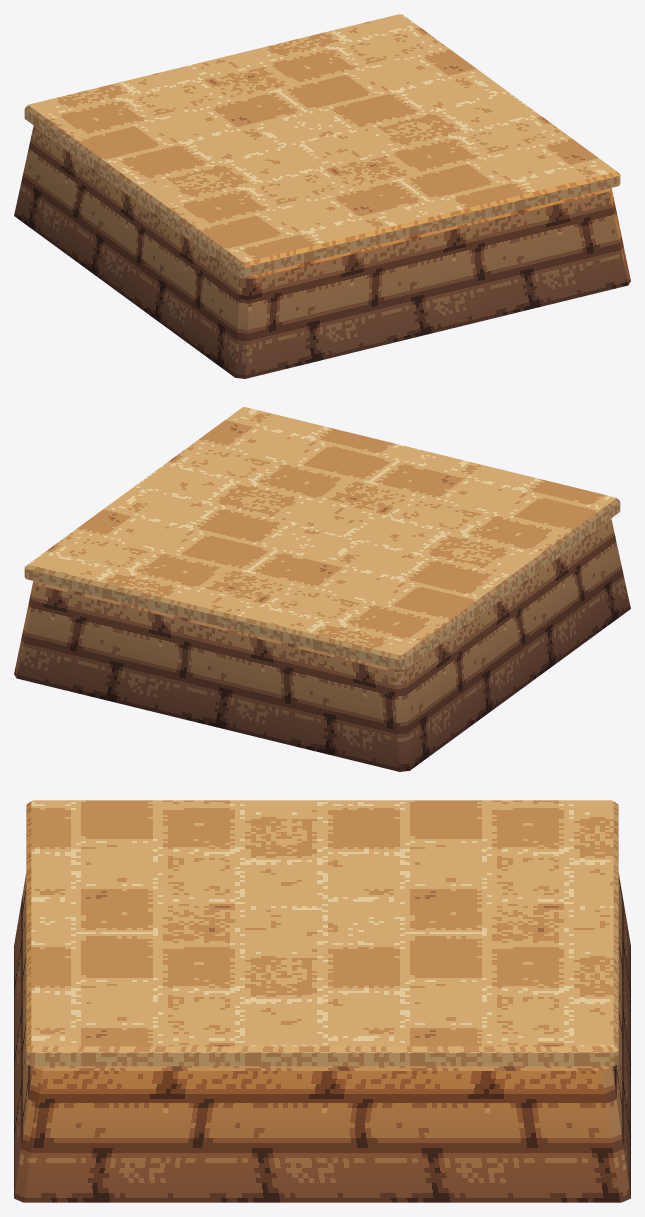
File: ruin.pyramid__tier.glb
The picture shows the model from 3 angles, top to bottom: view 1: azimuth 30°, elevation 25°; view 2: azimuth 150°, elevation 25°; view 3: azimuth 270°, elevation 25°; orthographic projection. The views are drawn at different scales.
Visible parts, largest first — view 1: kit_lips, kit_tiers; view 2: kit_lips, kit_tiers; view 3: kit_lips, kit_tiers.
Boxes of the visible parts, box(x1,y1,x2,y2) form: kit_lips: box(24, 14, 620, 277); kit_tiers: box(14, 126, 630, 378); kit_lips: box(24, 407, 620, 670); kit_tiers: box(14, 519, 630, 771); kit_lips: box(26, 800, 618, 1066); kit_tiers: box(14, 873, 630, 1202).
Size of the model in its own units: 7.5 by 2 by 7.5.
3 materials, 3 textured.
